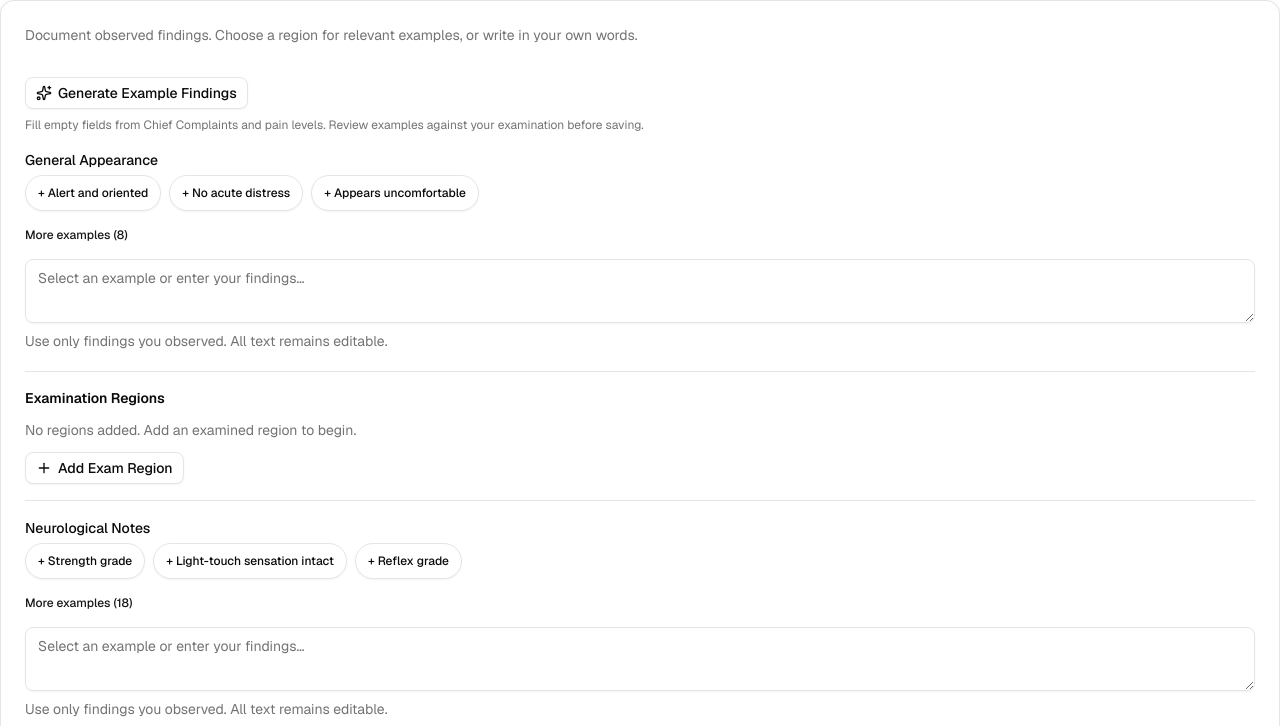
ExamFindingsCard › starts empty and adds a named region with no invented findings
Expected: the text box labelled "General Appearance" is empty, x1=25 y1=259 x2=1255 y2=323
Expected: the text box labelled "Neurological Notes" is empty, x1=25 y1=627 x2=1255 y2=691
Click the button "Add Exam Region" at (104, 468), box x1=25 y1=452 x2=184 y2=484
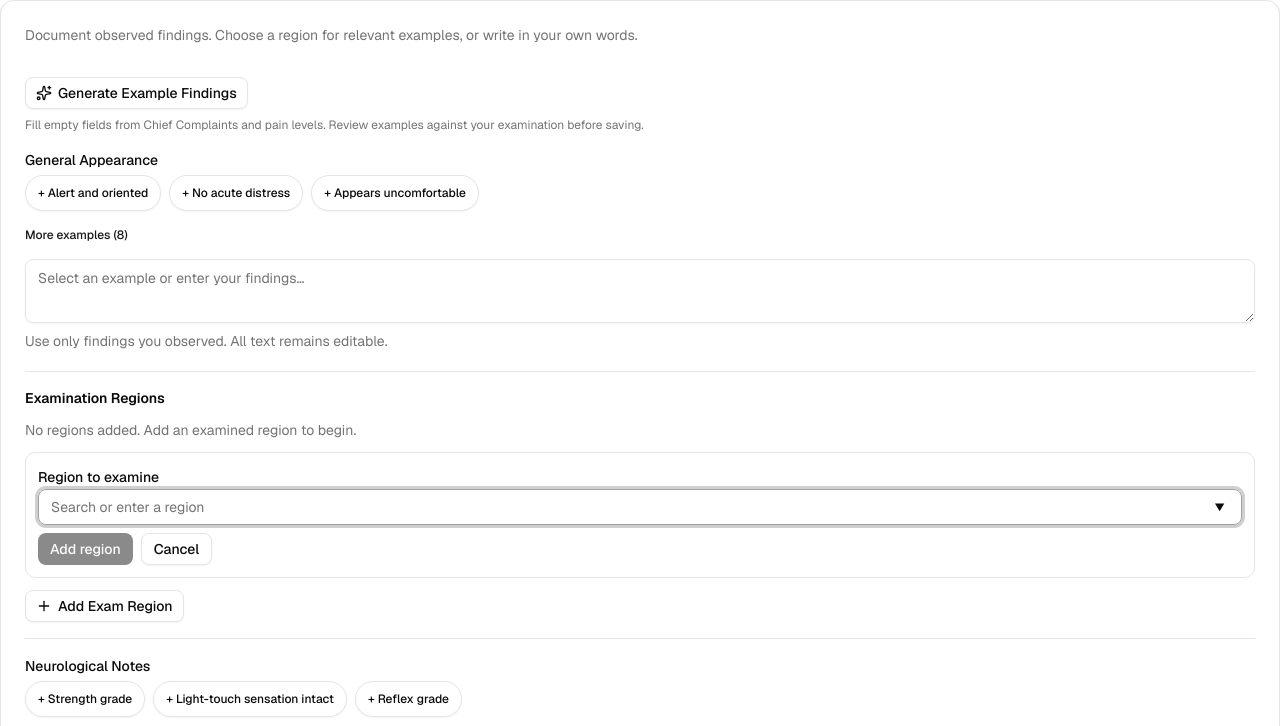
Type "Left knee" into the field labelled "Region to examine" at (640, 507), box x1=38 y1=489 x2=1242 y2=525
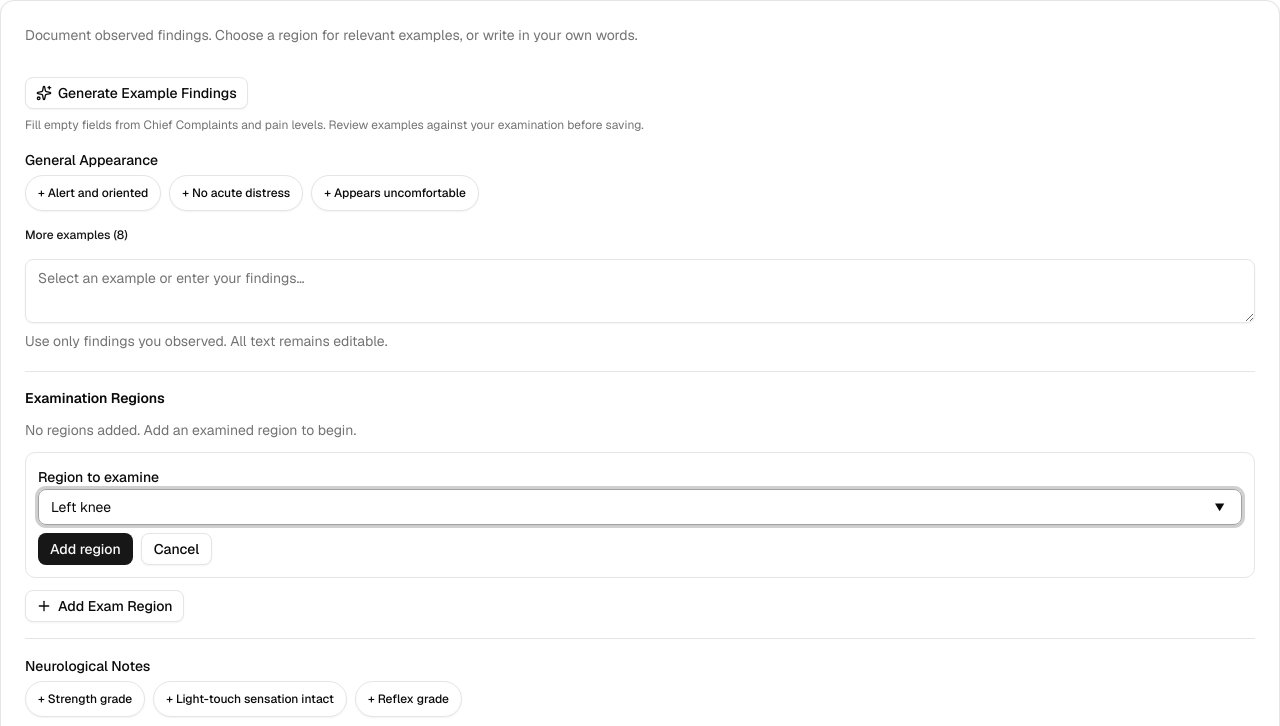
Click the button "Add region" at (85, 549), box x1=38 y1=533 x2=133 y2=565
(page scrolled)
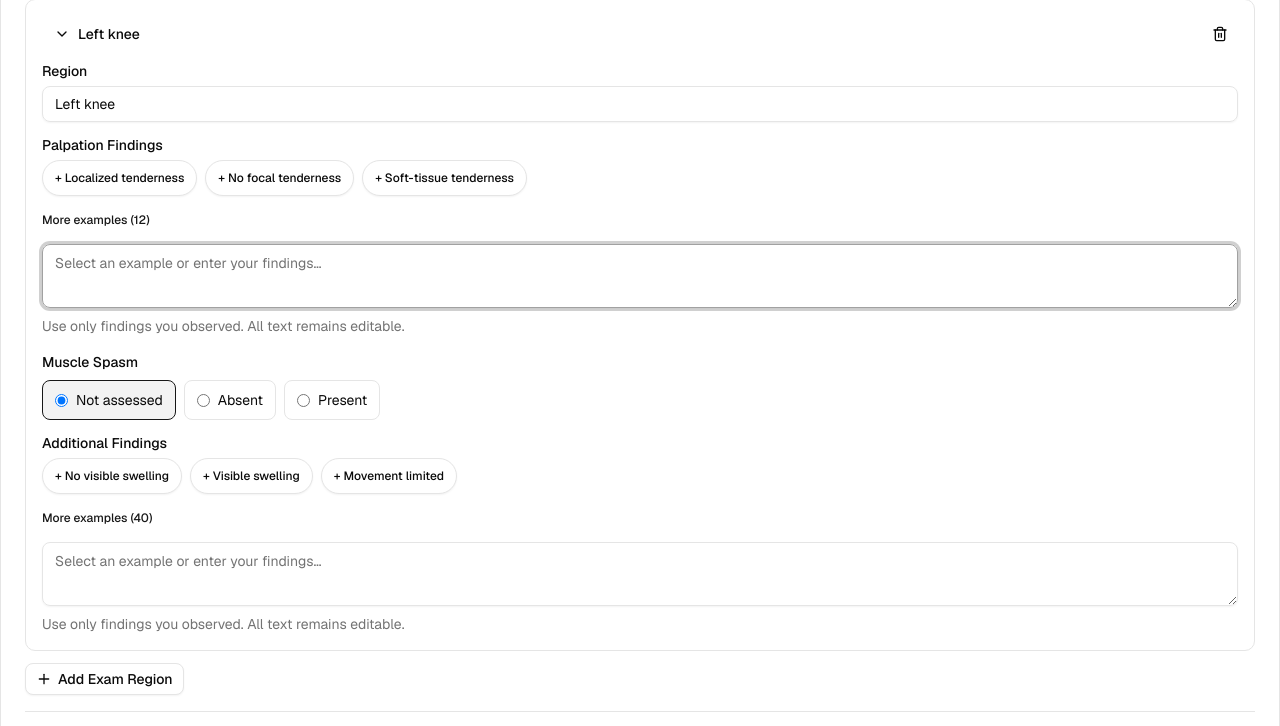
Expected: the text box labelled "Palpation Findings" is empty, x1=42 y1=244 x2=1238 y2=308
Expected: the radio button labelled "Not assessed" is checked, x1=55 y1=394 x2=68 y2=406
